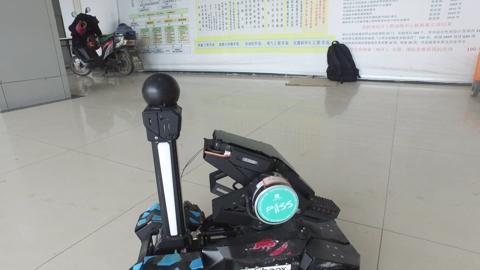bag: (317, 44, 362, 93)
chariot: (111, 64, 369, 270)
